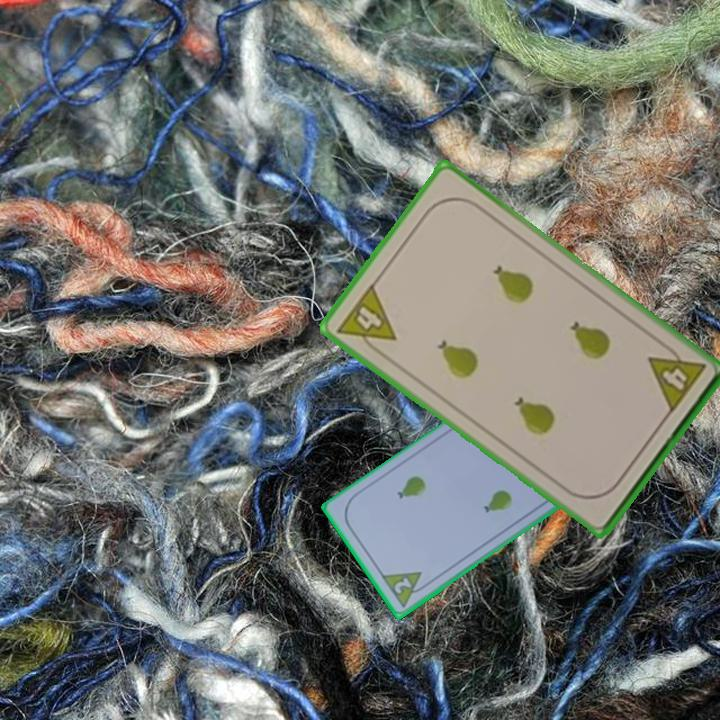2p: (378, 568, 432, 611)
4p: (332, 280, 399, 360), (644, 338, 708, 417)
